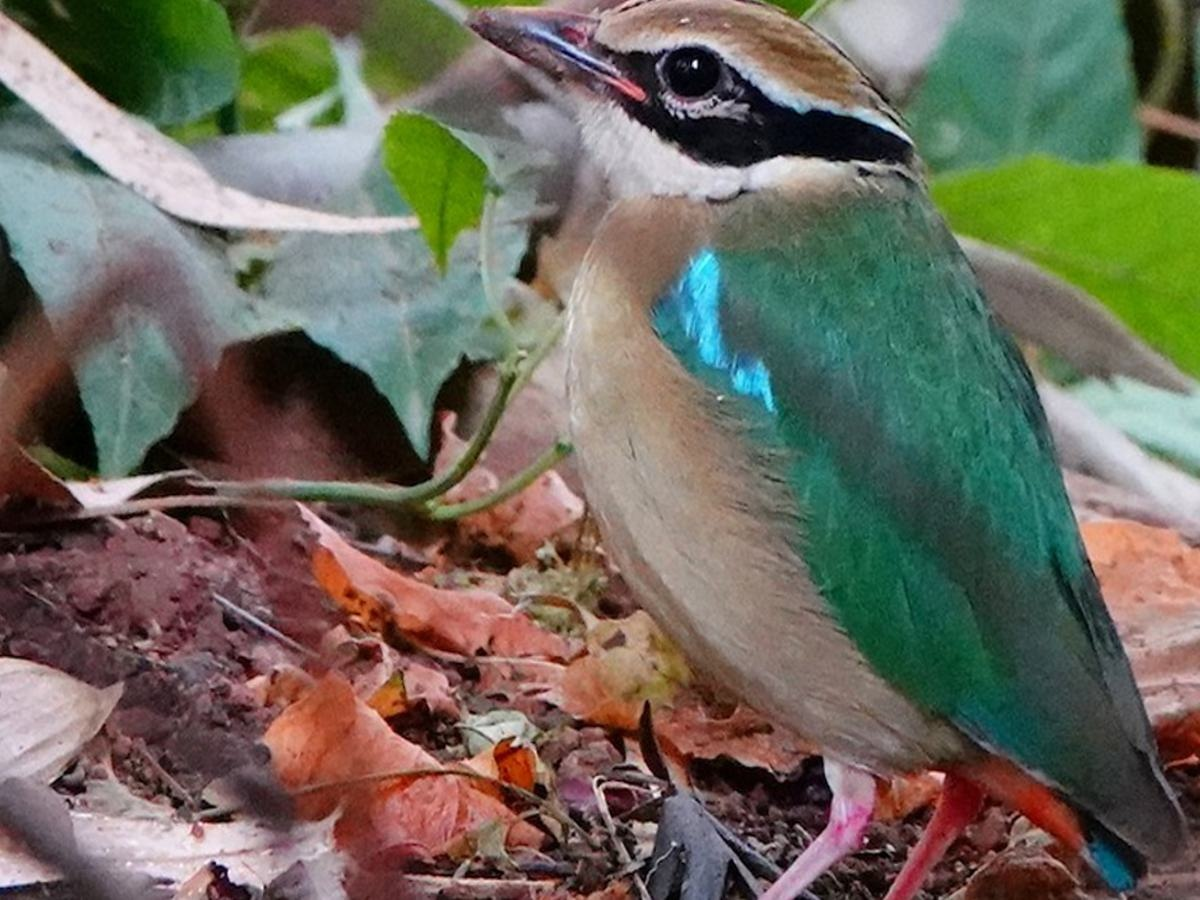pitta: (454, 5, 1120, 864)
